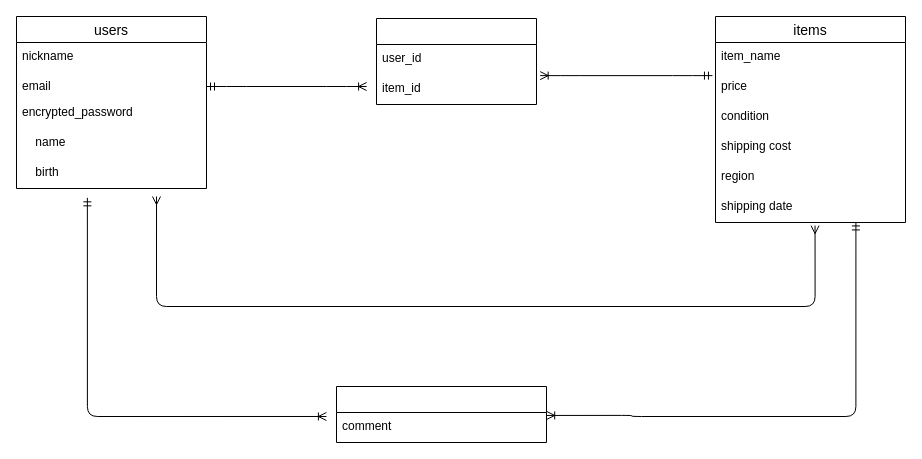
Some shapes in this 922 by 459 pixel diagram are drawn without their labels. Each missing label, with the box of its shape:
comments: (336, 386, 546, 442)
user_items: (376, 18, 536, 104)
